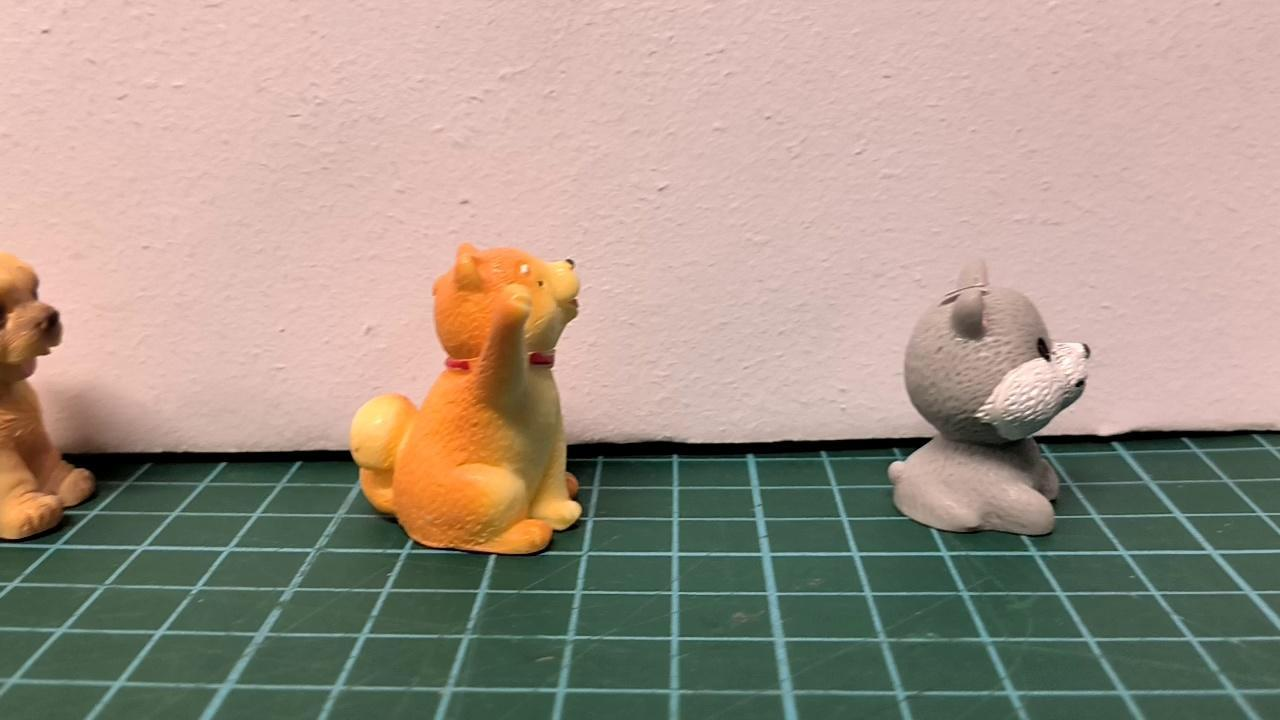pet: (351, 242, 582, 557), (887, 255, 1091, 539), (0, 252, 92, 542)
